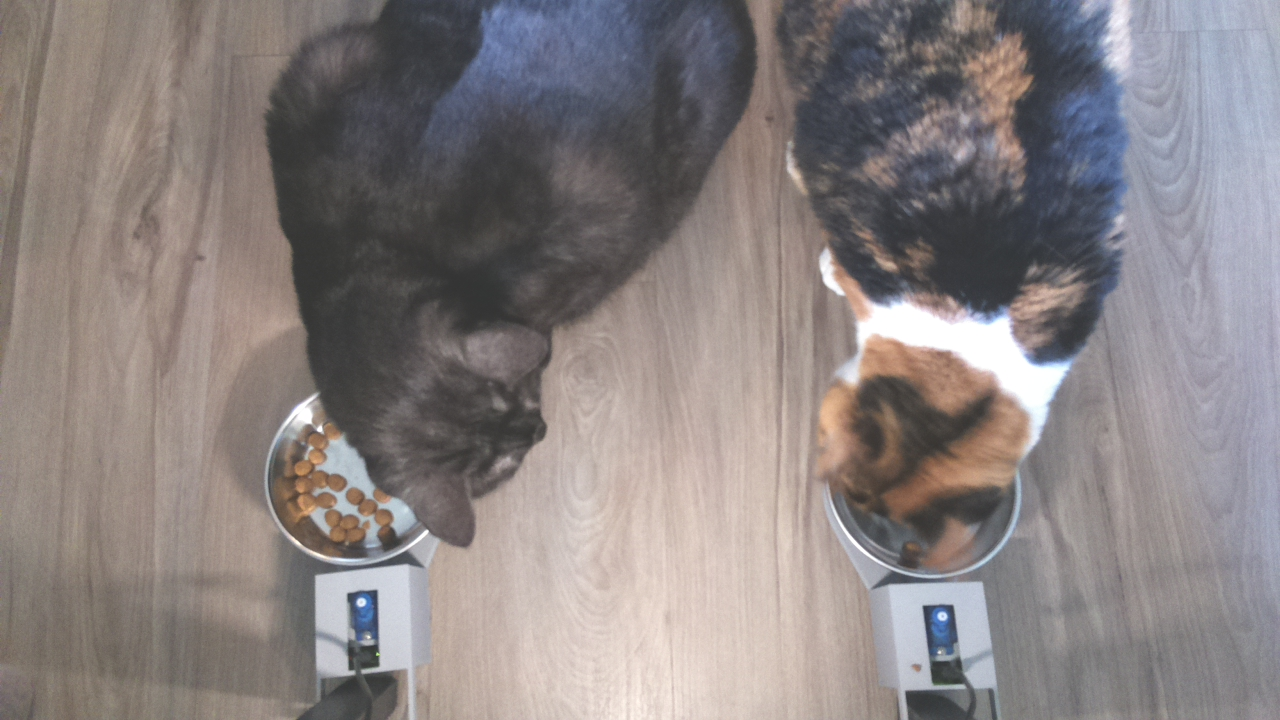bella_eating: (782, 279, 1050, 593)
open_bowl: (255, 399, 395, 563)
saki: (319, 249, 576, 550)
